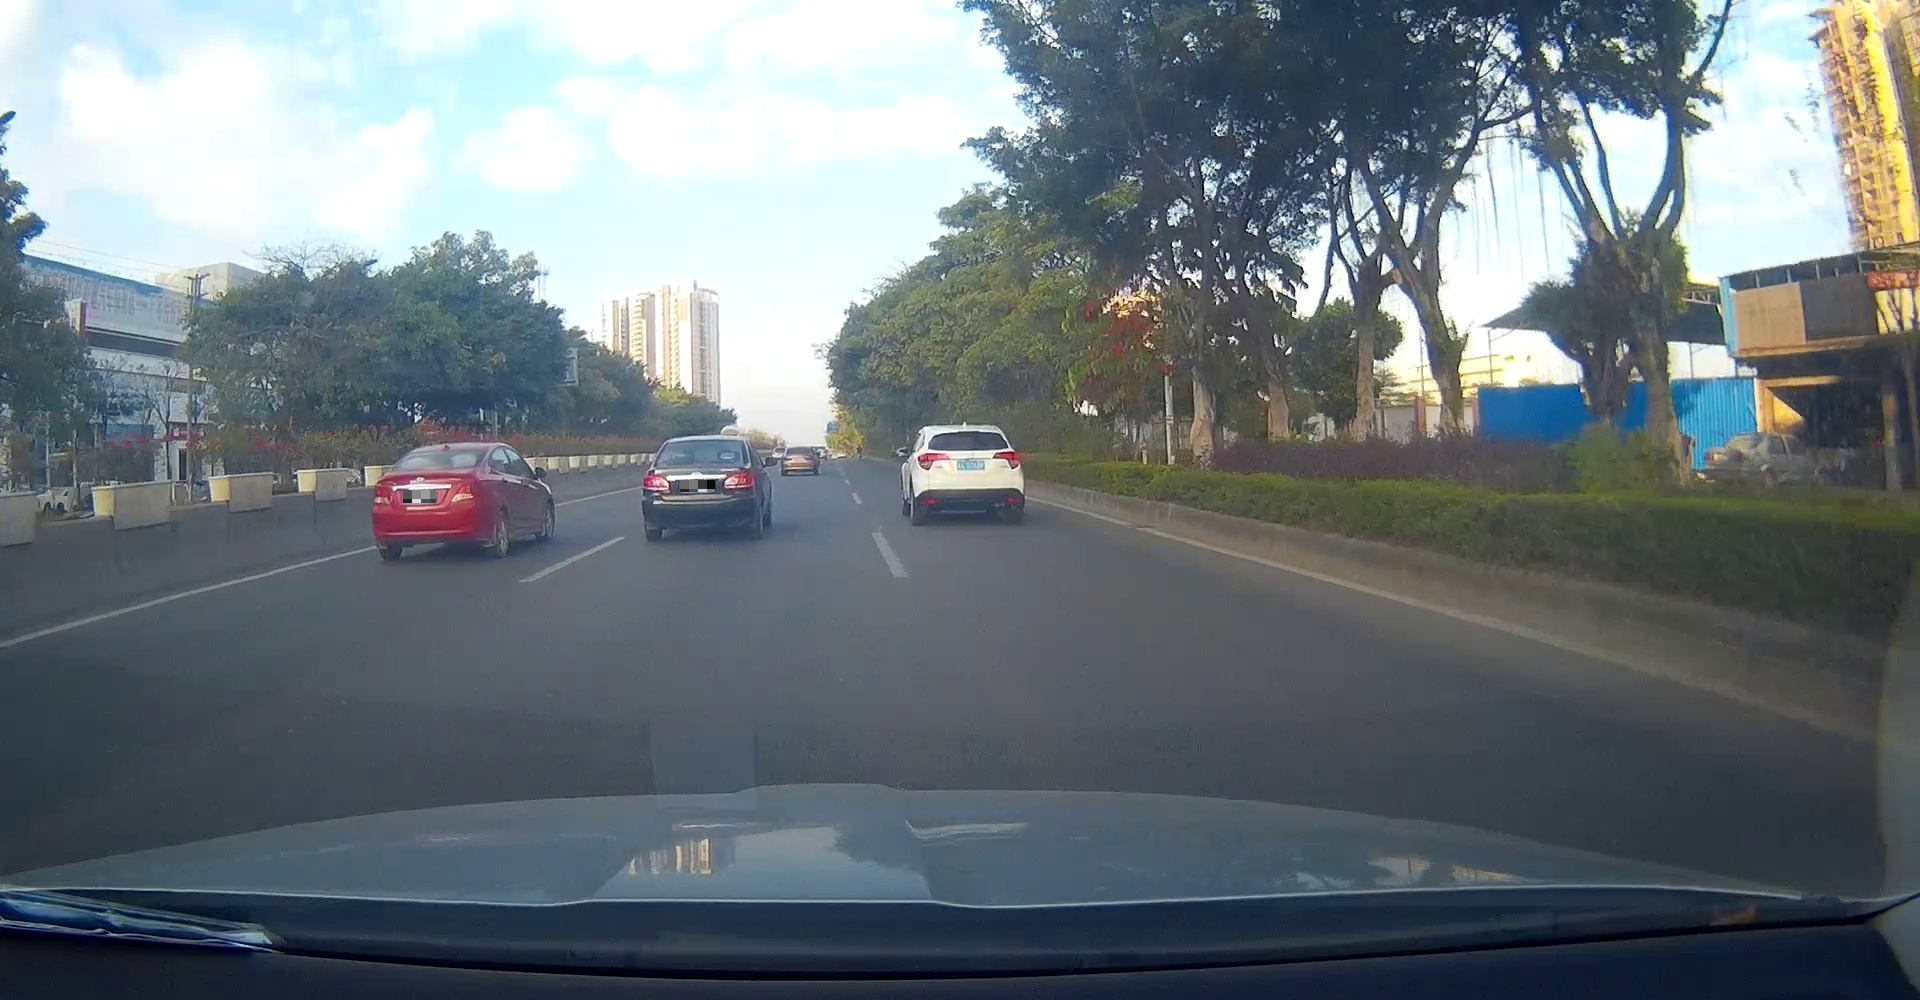L_light: (917, 452, 949, 470), (643, 475, 670, 491), (373, 485, 392, 504), (783, 456, 792, 461)
R_light: (451, 482, 477, 503), (992, 451, 1020, 470), (723, 472, 754, 489), (804, 456, 813, 459)
T_light: (428, 452, 448, 456), (693, 440, 712, 444), (963, 431, 977, 435), (796, 448, 803, 451)
day-no: (371, 443, 488, 561), (641, 437, 756, 543), (916, 425, 1023, 524), (782, 445, 815, 476)
plate_1: (403, 490, 436, 503)
plate_2: (681, 480, 715, 492)
